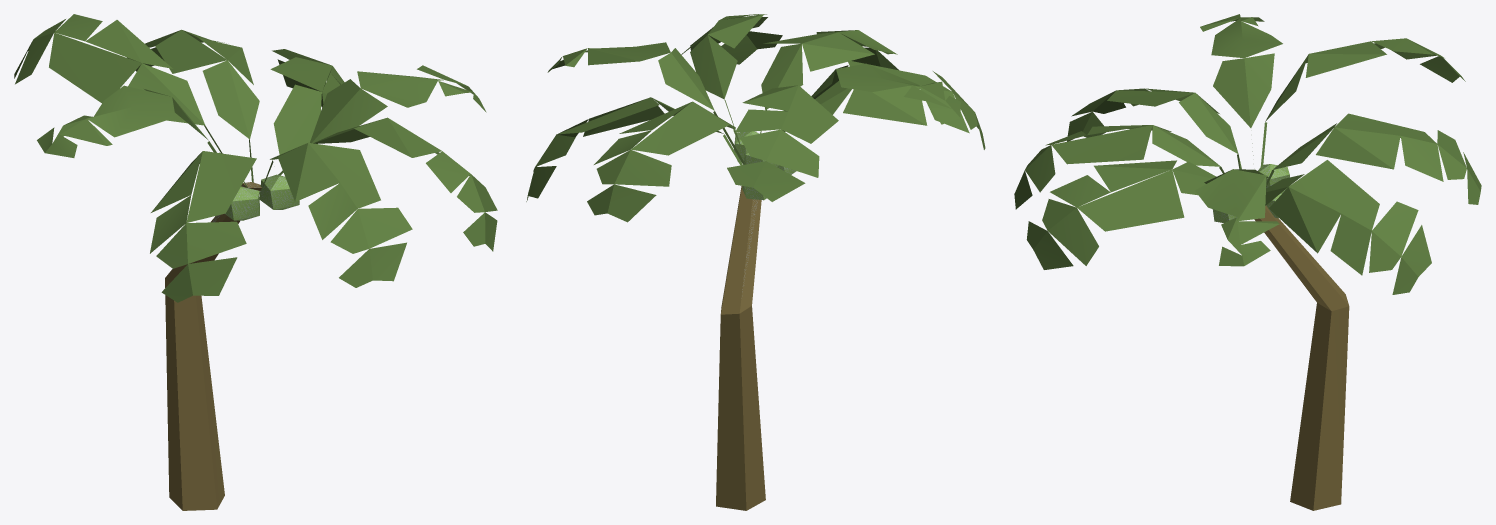
The model's file is Tree_Palm_Coconuts_01.fbx.
3 views of the same model, side by side, from view 1: azimuth 30°, elevation 25°; view 2: azimuth 150°, elevation 25°; view 3: azimuth 270°, elevation 25° (orthographic). The views are drawn at different scales.
Visible parts, largest first — view 1: Model; view 2: Model; view 3: Model.
Boxes of the visible parts, left/top/right/bottom form: Model: left=14, top=14, right=497, bottom=510; Model: left=526, top=14, right=985, bottom=510; Model: left=1014, top=14, right=1481, bottom=510.
Bounding box in the file's own units: 532 × 539 × 536.
